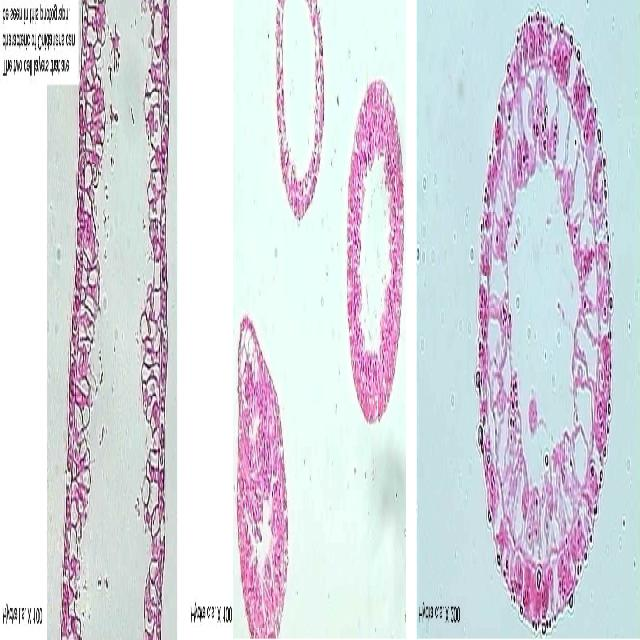Amoeba: (474, 13, 614, 635)
